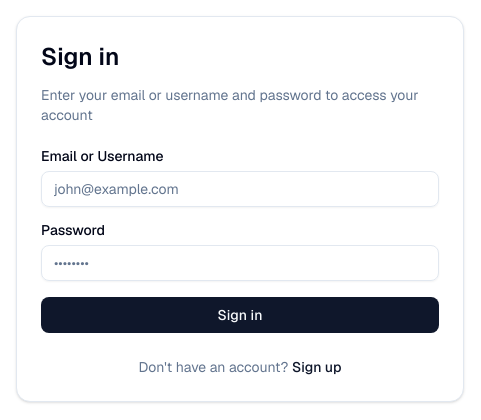
Test: LoginPage › Form Submission › should disable inputs while submitting
Type "test@example.com" into the field labelled "Email or Username" at (240, 189), box top-left (41, 171), bottom-right (439, 207)
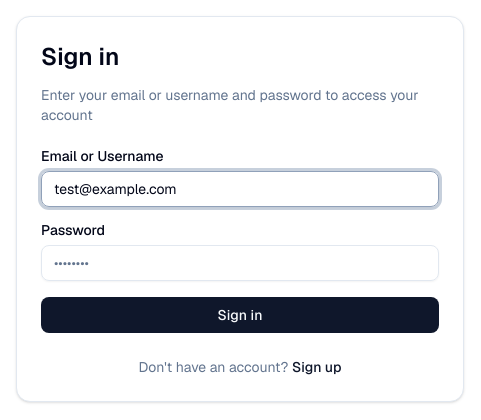
Type "password123" into the password field labelled "Password" at (240, 263), box top-left (41, 245), bottom-right (439, 281)
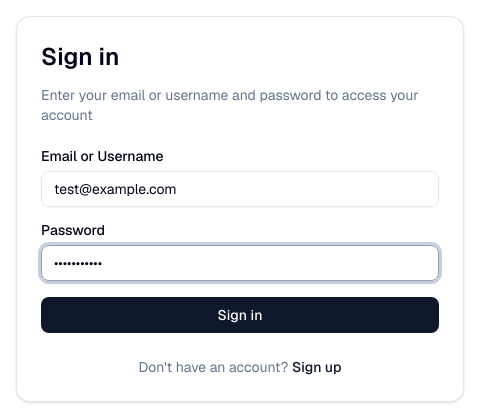
Click the button "Sign in" at (240, 315), box top-left (41, 297), bottom-right (439, 333)
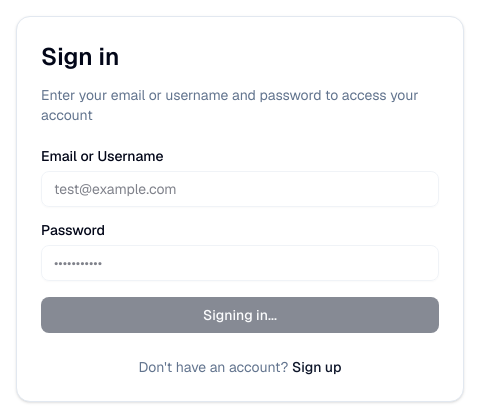
Now the field labelled "Email or Username" is disabled, box top-left (41, 171), bottom-right (439, 207)
Now the password field labelled "Password" is disabled, box top-left (41, 245), bottom-right (439, 281)
